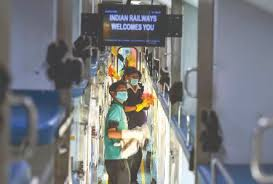mask: (112, 88, 127, 105), (126, 69, 140, 86)
